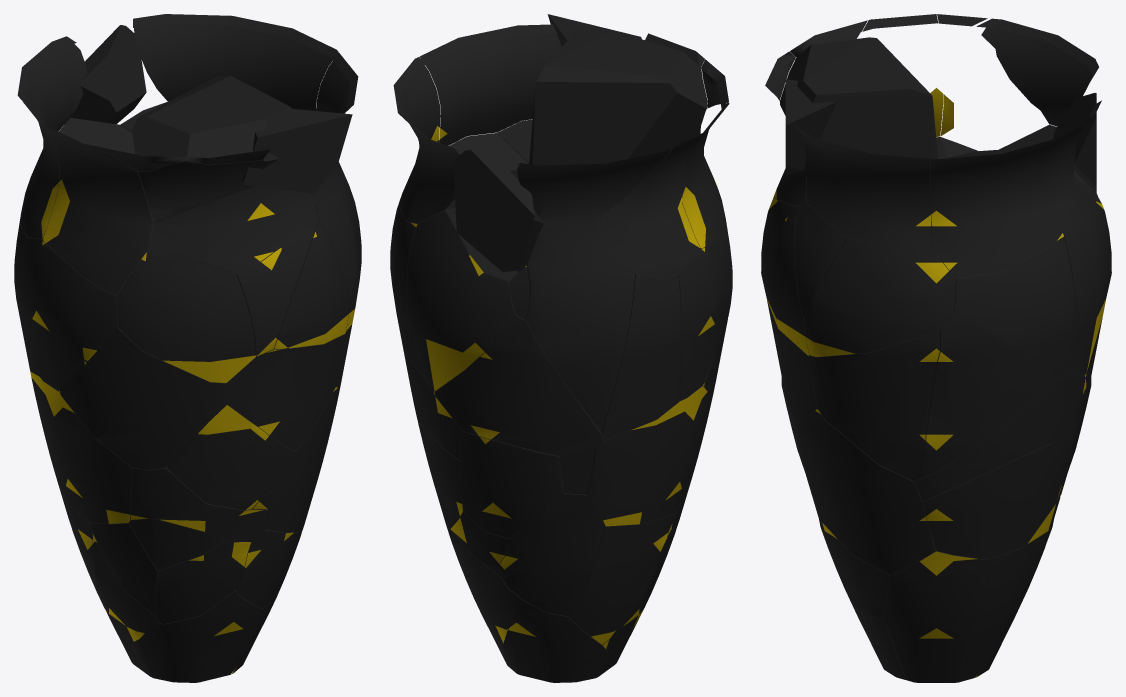
The model's file is breakeble jarron2.fbx.
3 views of the same model, side by side, from view 1: azimuth 30°, elevation 25°; view 2: azimuth 150°, elevation 25°; view 3: azimuth 270°, elevation 25° (orthographic).
Visible parts, largest first — view 1: Jarro De Barro_cell.064, Jarro De Barro_cell.025, Jarro De Barro_cell.070, Jarro De Barro_cell.046, Jarro De Barro_cell, Jarro De Barro_cell.012, Jarro De Barro_cell.019, Jarro De Barro_cell.018, Jarro De Barro_cell.042, Jarro De Barro_cell.044, Jarro De Barro_cell.048, Jarro De Barro_cell.034 (+20 smaller); view 2: Jarro De Barro_cell.025, Jarro De Barro_cell.053, Jarro De Barro_cell.051, Jarro De Barro_cell.069, Jarro De Barro_cell.049, Jarro De Barro_cell.048, Jarro De Barro_cell.066, Jarro De Barro_cell.073, Jarro De Barro_cell.037, Jarro De Barro_cell.033, Jarro De Barro_cell.030, Jarro De Barro_cell.058 (+17 smaller); view 3: Jarro De Barro_cell.070, Jarro De Barro_cell.059, Jarro De Barro_cell.025, Jarro De Barro_cell.062, Jarro De Barro_cell.015, Jarro De Barro_cell.072, Jarro De Barro_cell.049, Jarro De Barro_cell.023, Jarro De Barro_cell.031, Jarro De Barro_cell.006, Jarro De Barro_cell.008, Jarro De Barro_cell.038 (+18 smaller).
Boxes of the visible parts, x1,y1,x2,y2 form: Jarro De Barro_cell.064: [58, 327, 227, 469]; Jarro De Barro_cell.025: [132, 76, 293, 222]; Jarro De Barro_cell.070: [133, 14, 338, 110]; Jarro De Barro_cell.046: [116, 247, 255, 382]; Jarro De Barro_cell: [39, 122, 152, 295]; Jarro De Barro_cell.012: [22, 237, 137, 390]; Jarro De Barro_cell.019: [151, 186, 316, 273]; Jarro De Barro_cell.018: [226, 334, 344, 451]; Jarro De Barro_cell.042: [167, 405, 293, 510]; Jarro De Barro_cell.044: [124, 542, 271, 682]; Jarro De Barro_cell.048: [30, 371, 132, 523]; Jarro De Barro_cell.034: [242, 108, 352, 193]; Jarro De Barro_cell.025: [529, 28, 707, 203]; Jarro De Barro_cell.053: [518, 212, 634, 432]; Jarro De Barro_cell.051: [407, 207, 518, 391]; Jarro De Barro_cell.069: [433, 314, 602, 455]; Jarro De Barro_cell.049: [419, 24, 561, 145]; Jarro De Barro_cell.048: [587, 386, 712, 526]; Jarro De Barro_cell.066: [596, 219, 681, 440]; Jarro De Barro_cell.073: [499, 493, 605, 615]; Jarro De Barro_cell.037: [588, 131, 706, 276]; Jarro De Barro_cell.033: [460, 431, 563, 537]; Jarro De Barro_cell.030: [453, 148, 534, 272]; Jarro De Barro_cell.058: [568, 513, 674, 644]; Jarro De Barro_cell.070: [930, 100, 1101, 277]; Jarro De Barro_cell.059: [803, 238, 955, 356]; Jarro De Barro_cell.025: [779, 37, 937, 191]; Jarro De Barro_cell.062: [795, 409, 935, 575]; Jarro De Barro_cell.015: [809, 330, 940, 481]; Jarro De Barro_cell.072: [917, 312, 1055, 479]; Jarro De Barro_cell.049: [795, 126, 930, 248]; Jarro De Barro_cell.023: [930, 192, 1077, 378]; Jarro De Barro_cell.031: [884, 549, 990, 682]; Jarro De Barro_cell.006: [922, 432, 1076, 558]; Jarro De Barro_cell.008: [915, 372, 1086, 501]; Jarro De Barro_cell.038: [976, 18, 1098, 126].
Bounding box in the file's own units: 127 × 235 × 127.
